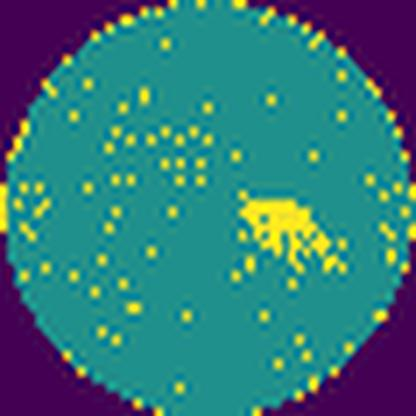Edge-Loc: (237, 197, 345, 276)
